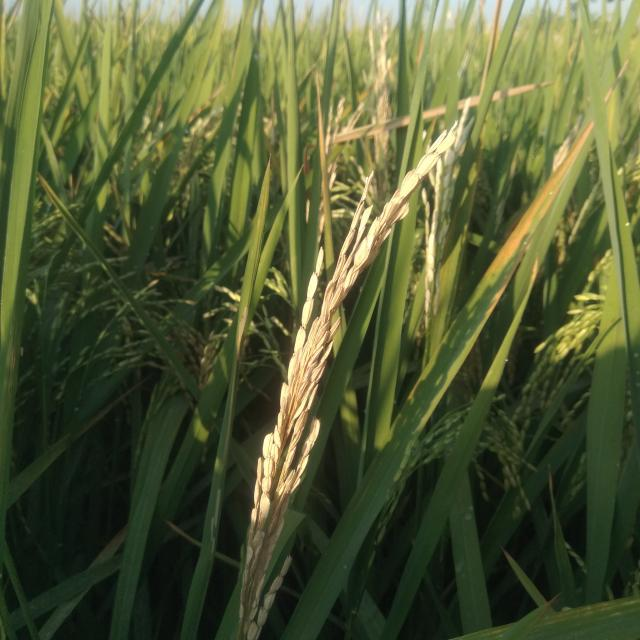Brown spot: (481, 120, 594, 282), (312, 81, 330, 188)
